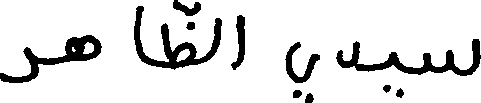ا: (231, 12, 244, 70), (133, 4, 143, 63)
د: (334, 39, 358, 71)
ر: (0, 45, 37, 84)
س: (424, 36, 479, 76)
ظ: (159, 17, 196, 70)
ل: (210, 16, 219, 59)
ه: (65, 32, 100, 61)
ي: (283, 39, 317, 101), (381, 50, 404, 96)
